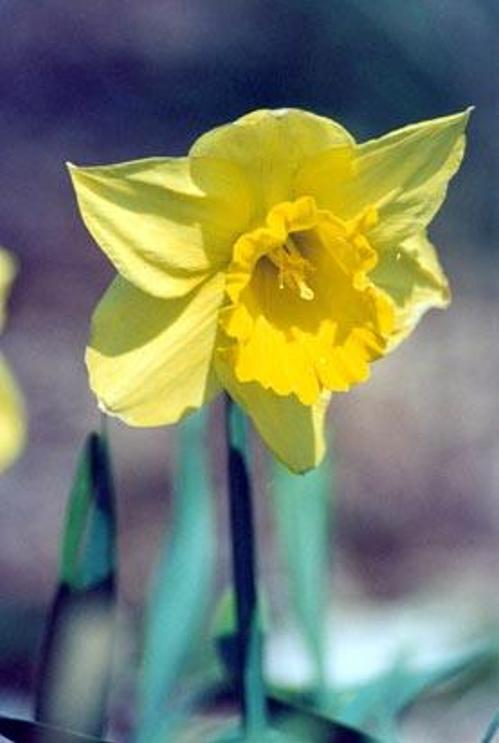flower1: (65, 101, 475, 476)
